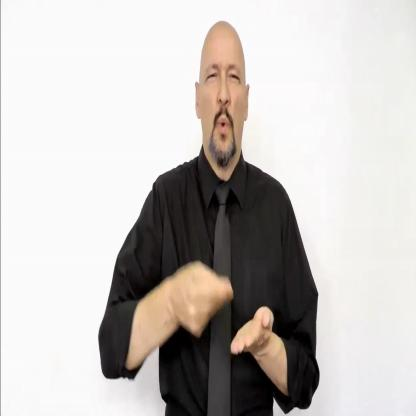Expensive: (162, 244, 278, 372)
